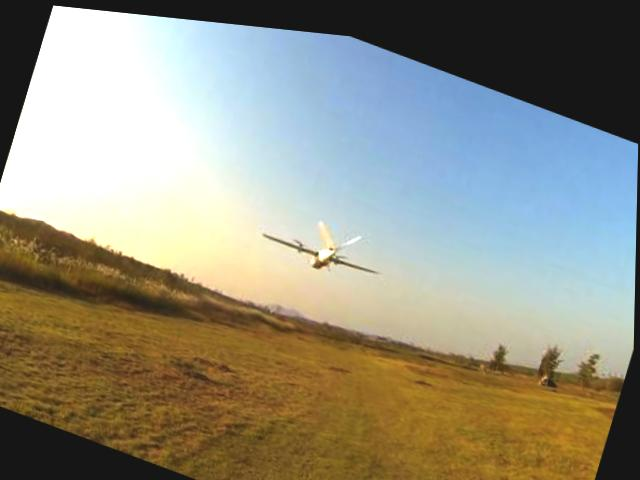uav: (249, 185, 405, 301)
